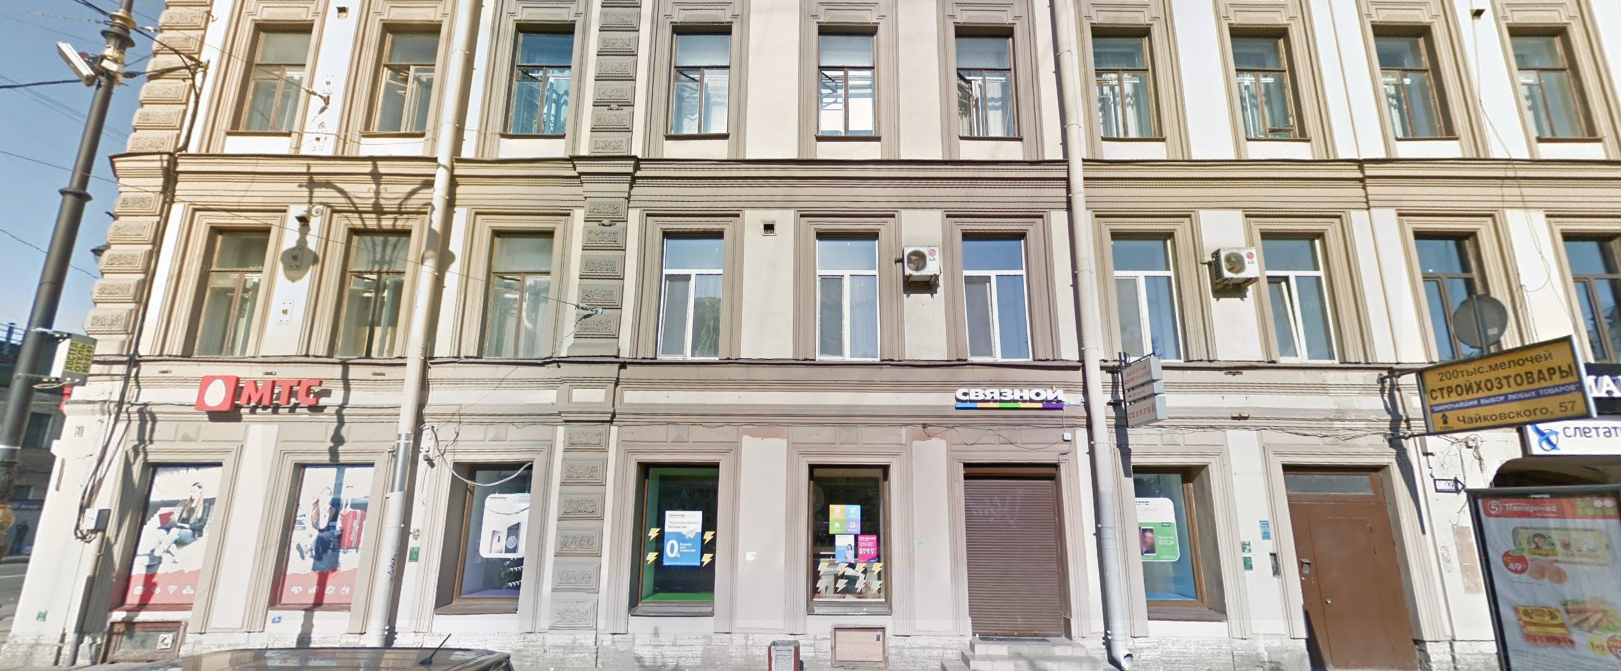cantilever: (1101, 347, 1167, 446)
door: (1286, 490, 1417, 671)
signboard: (200, 367, 333, 419), (948, 384, 1064, 409)
window: (278, 462, 375, 602), (128, 464, 224, 605), (1130, 459, 1214, 610), (444, 466, 530, 608), (637, 461, 717, 611), (809, 463, 886, 613), (1410, 230, 1495, 360), (1369, 26, 1461, 144), (331, 226, 412, 353), (1263, 235, 1339, 362), (1511, 30, 1596, 139), (193, 227, 267, 350), (1112, 228, 1182, 356), (964, 235, 1031, 365), (483, 226, 552, 353), (1229, 23, 1304, 140), (809, 240, 878, 364), (656, 233, 723, 359), (231, 28, 308, 131), (1561, 228, 1621, 356), (817, 20, 881, 136), (1091, 25, 1157, 136), (367, 16, 427, 138), (955, 26, 1018, 142), (514, 23, 573, 136), (673, 22, 726, 140)
